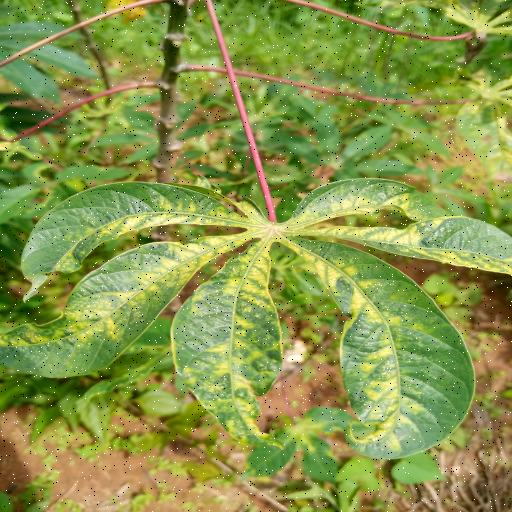Cassava_Mosaic: (0, 176, 512, 461)
